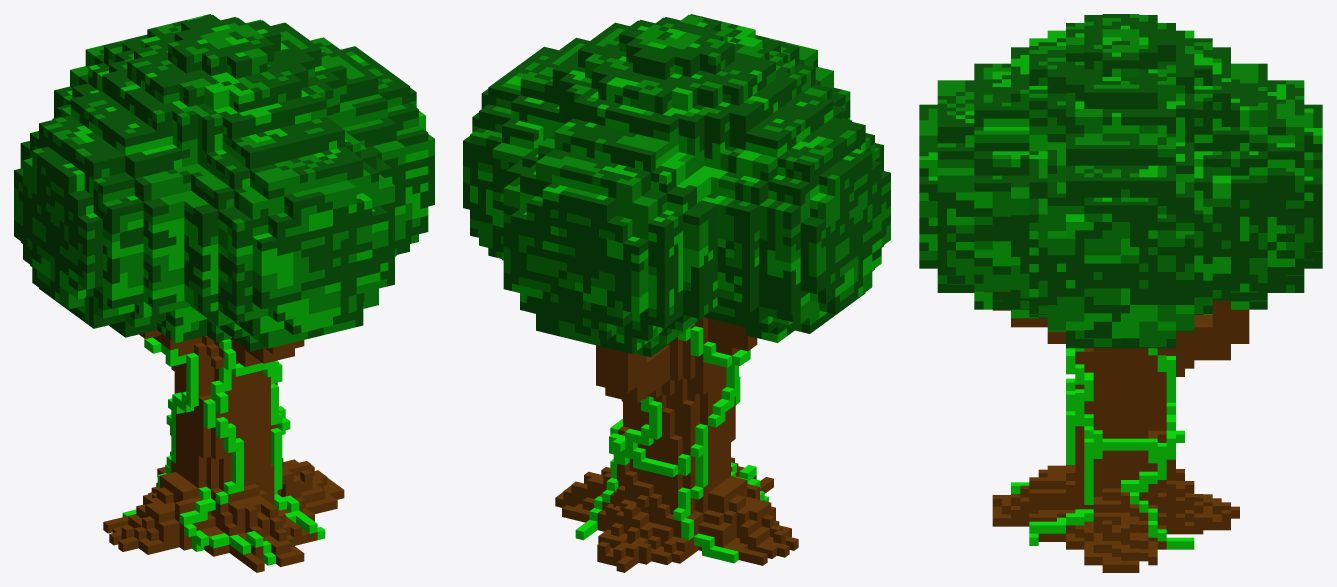
Rendered from game_tree.glb.
The picture shows the model from 3 angles, left to right: view 1: azimuth 30°, elevation 25°; view 2: azimuth 150°, elevation 25°; view 3: azimuth 270°, elevation 25°; orthographic projection.
Visible parts, largest first — view 1: Node1; view 2: Node1; view 3: Node1.
Boxes of the visible parts, left/top/right/bottom form: Node1: left=14, top=14, right=434, bottom=572; Node1: left=463, top=14, right=890, bottom=572; Node1: left=919, top=14, right=1322, bottom=572.
Bounding box in the file's own units: 4.4 × 5.8 × 4.4.
Materials: 1 (1 with a texture image).
